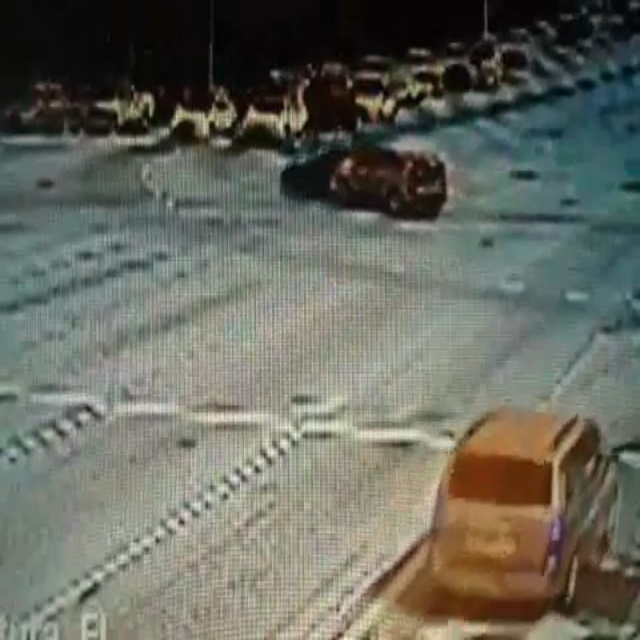acc: (270, 137, 437, 218)
